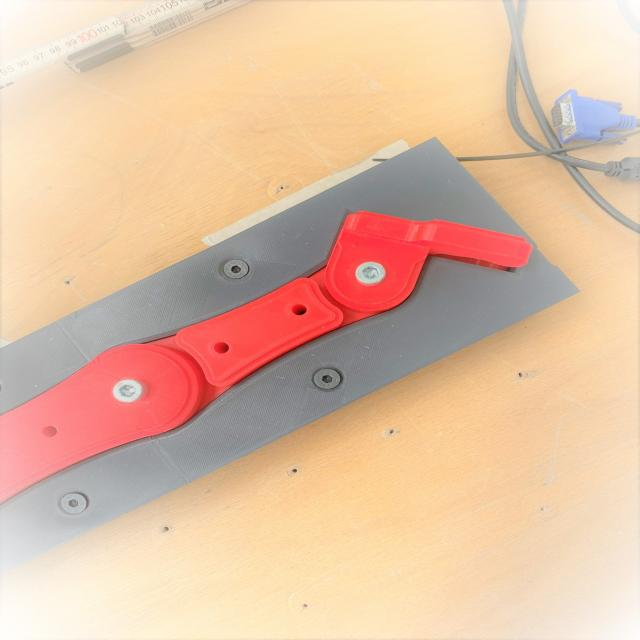HexScrew: (114, 378, 144, 403), (356, 261, 386, 284), (314, 368, 341, 389), (60, 493, 88, 513), (224, 259, 248, 279)
